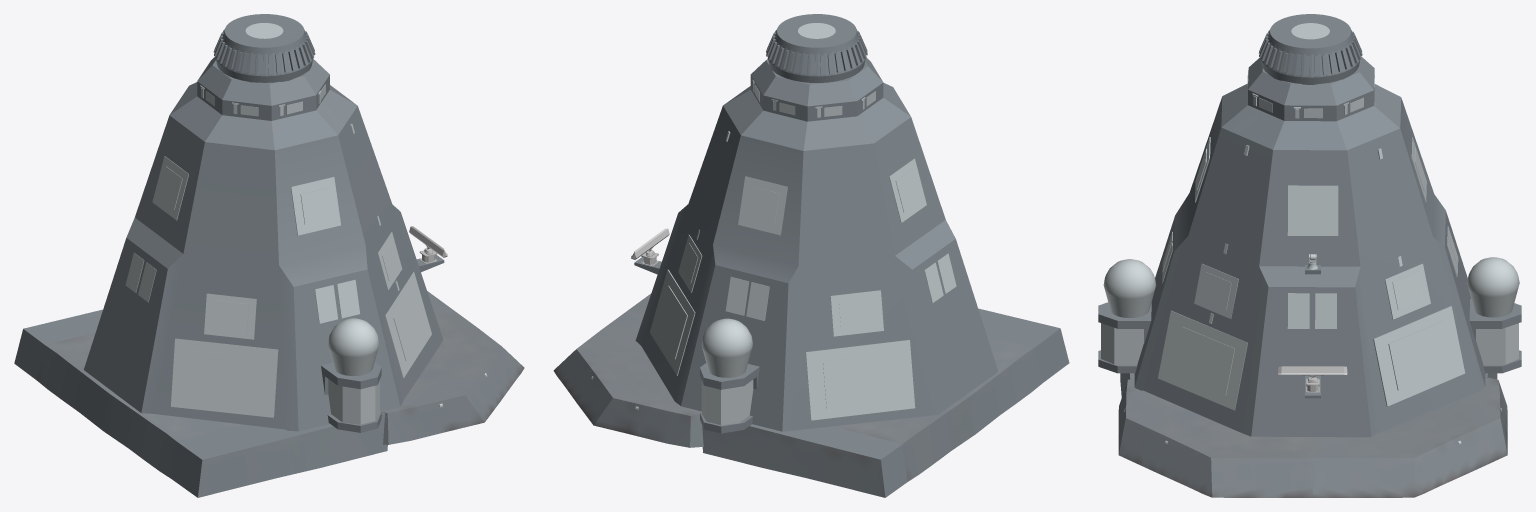
Rendered from kapak_01.FBX.
The picture shows the model from 3 angles, left to right: view 1: azimuth 30°, elevation 25°; view 2: azimuth 150°, elevation 25°; view 3: azimuth 270°, elevation 25°; orthographic projection. The views are drawn at different scales.
Visible parts, largest first — view 1: Cylinder001, Object283, Cylinder002, Box026, Box025, Object195, Box012, Box011, Box013, Box004, Box014, Box028 (+6 smaller); view 2: Cylinder001, Object283, Cylinder002, Box022, Box021, Object194, Box009, Box018, Box010, Box002, Box017, Box024 (+6 smaller); view 3: Cylinder001, Object283, Cylinder002, Box018, Box013, Box017, Box014, Object194, Object195, Box001, Box012, Box009 (+10 smaller).
Boxes of the visible parts, x1,y1,x2,y2 form: Cylinder001: [84, 56, 443, 431]; Object283: [14, 291, 524, 497]; Cylinder002: [213, 14, 315, 82]; Box026: [171, 338, 278, 417]; Box025: [188, 350, 262, 405]; Object195: [328, 318, 379, 375]; Box012: [328, 379, 379, 424]; Box011: [321, 362, 381, 432]; Box013: [385, 272, 431, 378]; Box004: [291, 177, 340, 235]; Box014: [393, 287, 425, 360]; Box028: [204, 293, 256, 339]; Cylinder001: [635, 58, 998, 431]; Object283: [553, 293, 1069, 497]; Cylinder002: [766, 14, 867, 82]; Box022: [806, 340, 915, 420]; Box021: [823, 353, 898, 408]; Object194: [701, 318, 752, 377]; Box009: [701, 380, 753, 425]; Box018: [650, 269, 695, 375]; Box010: [700, 363, 759, 433]; Box002: [738, 176, 787, 235]; Box017: [656, 285, 687, 359]; Box024: [830, 290, 883, 336]; Cylinder001: [1134, 56, 1485, 437]; Object283: [1118, 373, 1507, 497]; Cylinder002: [1258, 14, 1362, 84]; Box018: [1373, 306, 1465, 406]; Box013: [1158, 310, 1247, 410]; Box017: [1388, 321, 1451, 390]; Box014: [1172, 326, 1234, 395]; Object194: [1467, 257, 1519, 317]; Object195: [1103, 259, 1156, 317]; Box001: [1287, 185, 1338, 235]; Box012: [1101, 323, 1143, 364]; Box009: [1476, 323, 1518, 364].
Size of the model in its own units: 13.5 by 13.03 by 12.58.
